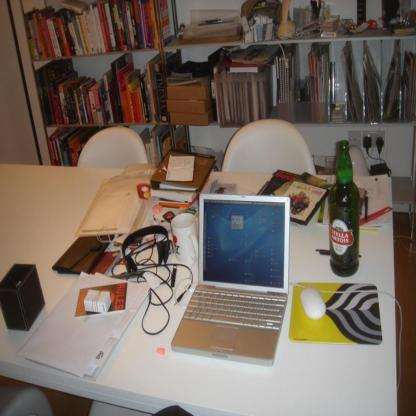board: (171, 193, 289, 367), (330, 139, 360, 277)
